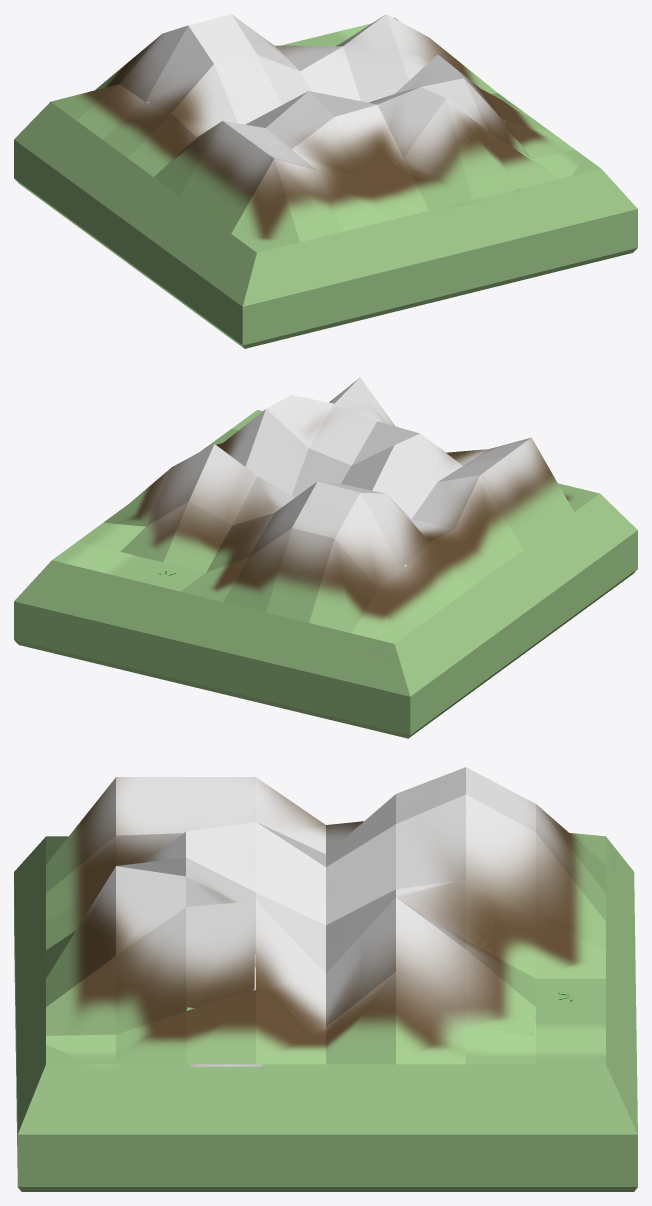
File: mountain_sqr.glb
3 views of the same model, one above another, from view 1: azimuth 30°, elevation 25°; view 2: azimuth 150°, elevation 25°; view 3: azimuth 270°, elevation 25° (orthographic). The views are drawn at different scales.
Visible parts, largest first — view 1: Cylinder; view 2: Cylinder; view 3: Cylinder.
Part boxes in pixels (x1,y1,x2,y2): Cylinder: [14, 14, 637, 348]; Cylinder: [14, 377, 637, 738]; Cylinder: [14, 767, 637, 1191].
Size of the model in its own units: 1 by 0.4262 by 1.
1 material, 1 textured.
